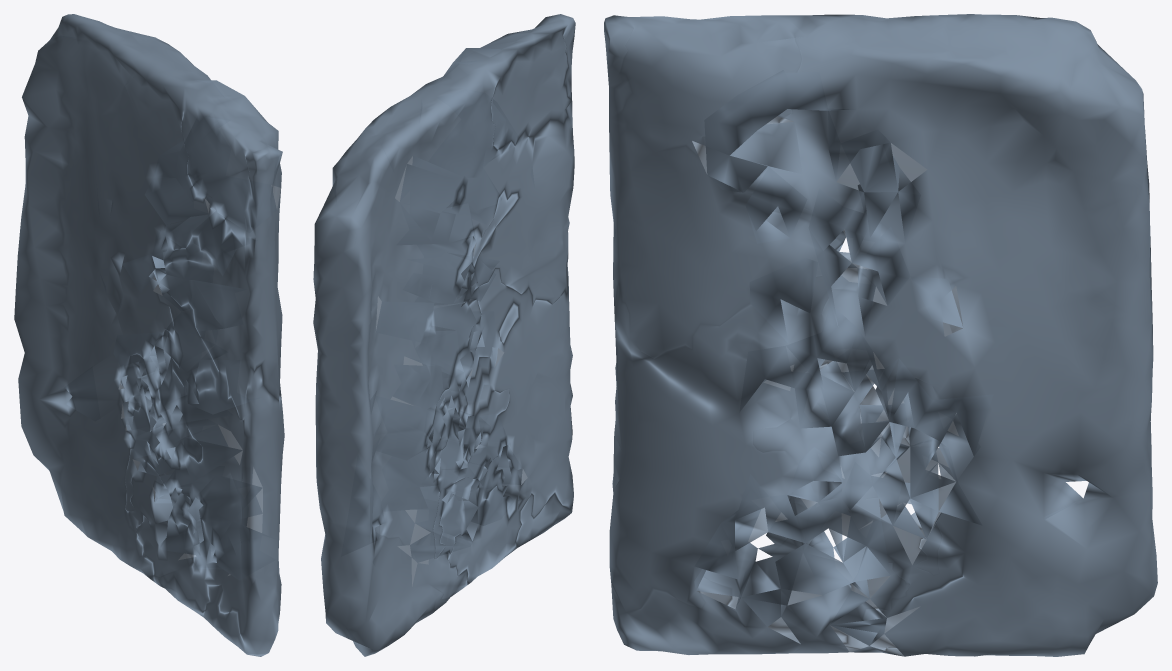
File: monitor_0541_recon.obj
3 views of the same model, side by side, from view 1: azimuth 30°, elevation 25°; view 2: azimuth 150°, elevation 25°; view 3: azimuth 270°, elevation 25° (orthographic). The views are drawn at different scales.
Size of the model in its own units: 0.2701 by 1.58 by 1.25.
